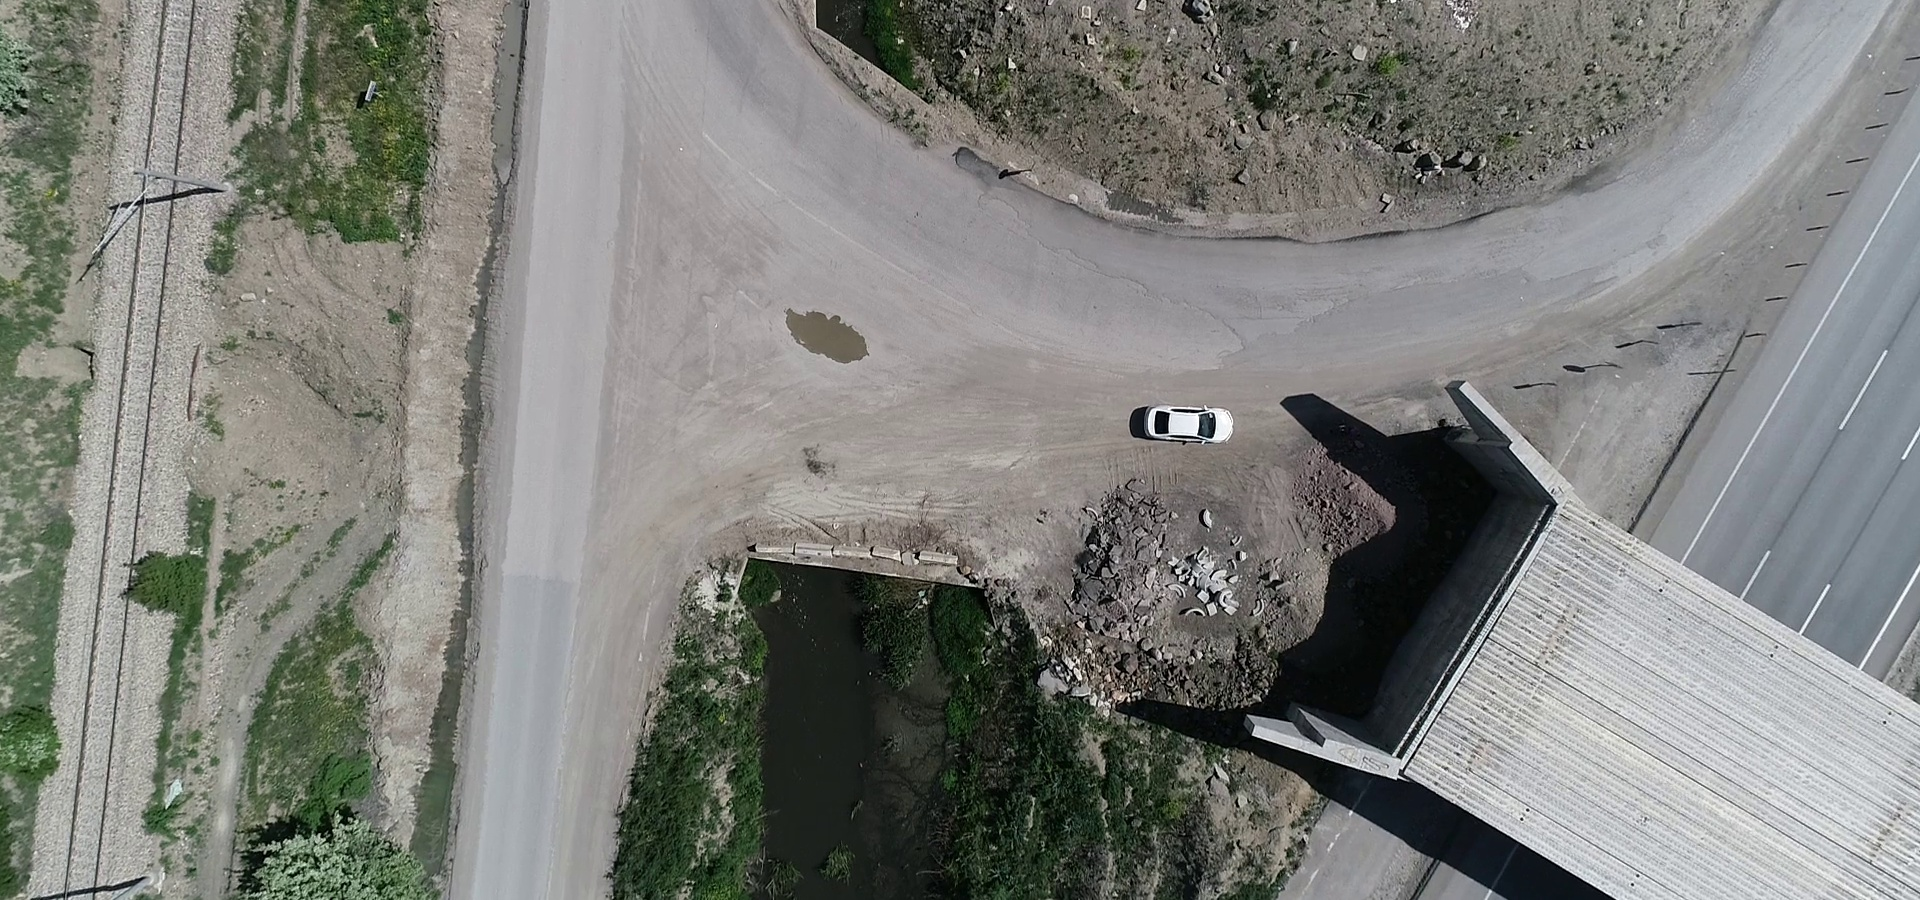araba: (1138, 403, 1236, 453)
